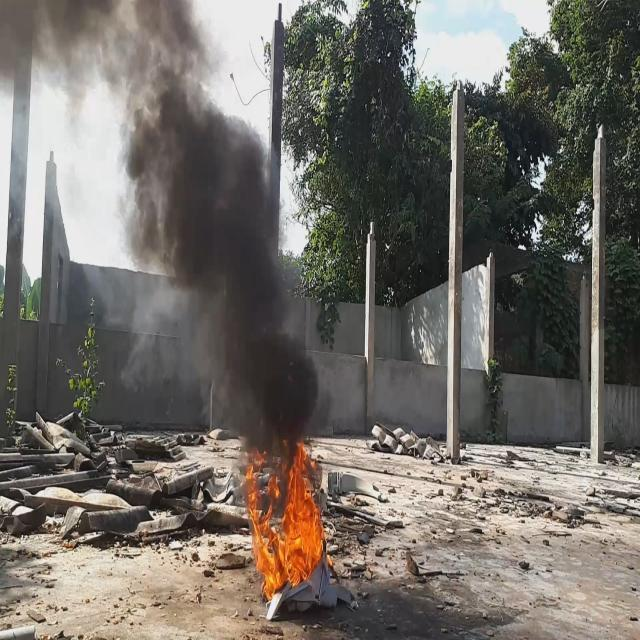Fire: (245, 442, 329, 598)
Smoke: (0, 0, 324, 516)
